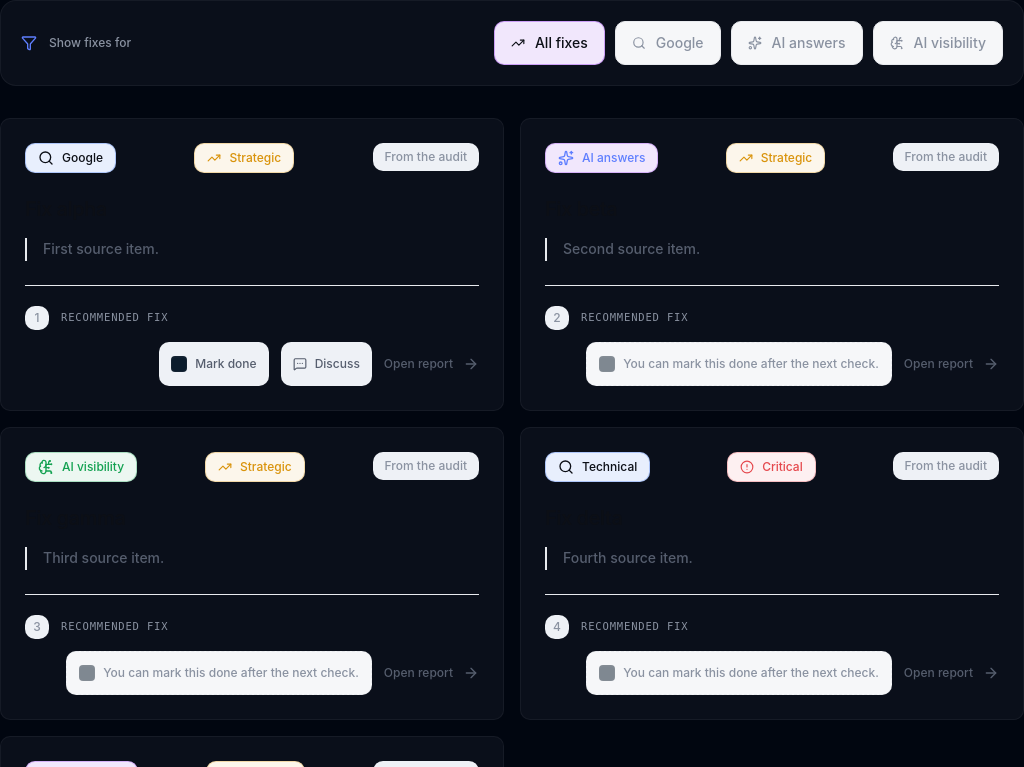
Test: RecommendationsHubClient › reverts the tick and reports the failure when the request fails
Click the checkbox named "Mark done: Fix alpha" at (179, 364), box x1=171 y1=356 x2=187 y2=372
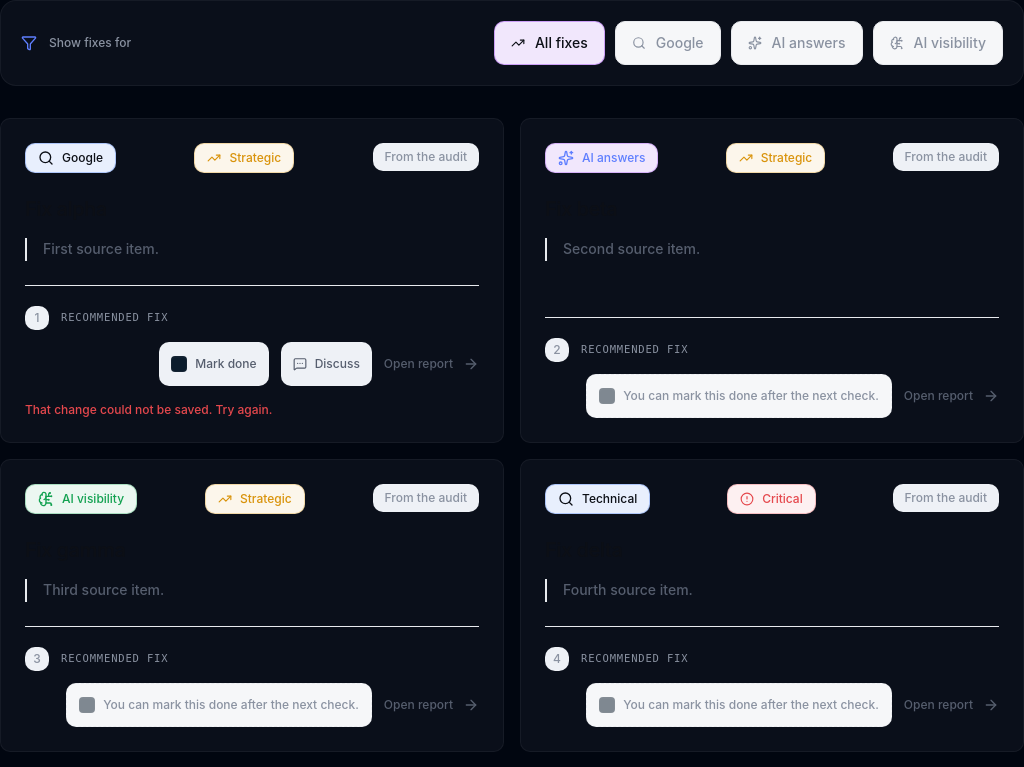
Result: the message reads "That change could not be saved. Try again." at x1=25 y1=402 x2=272 y2=417
